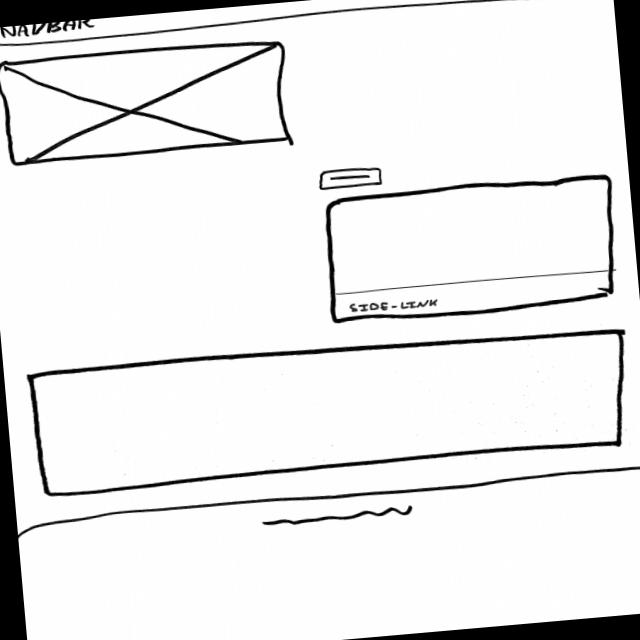container: (22, 320, 635, 501), (314, 169, 626, 332), (1, 1, 614, 53)
icon-button: (312, 161, 387, 195)
image: (1, 34, 299, 170)
label: (343, 294, 444, 318), (1, 19, 100, 41)
text: (258, 504, 420, 534)
